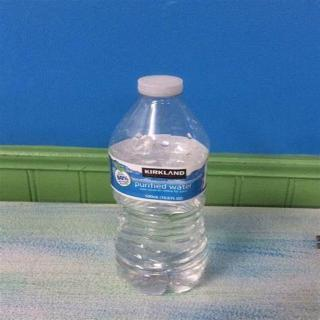Anorganik: (101, 69, 226, 301)
